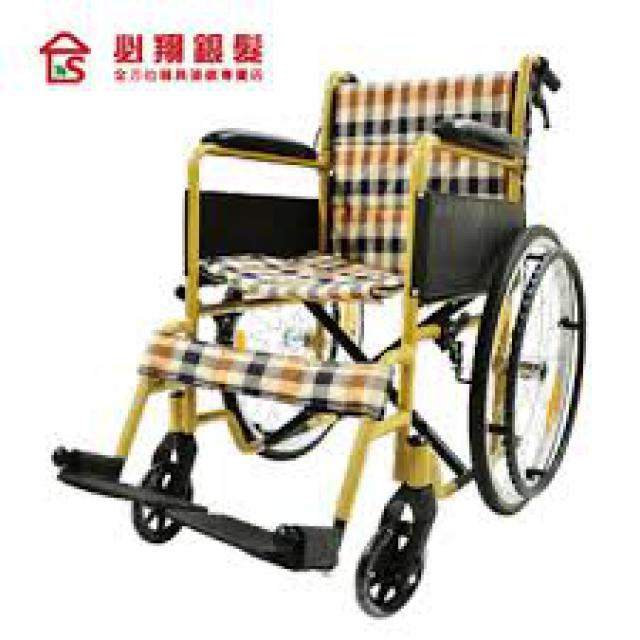wheelchair: (37, 48, 592, 638)
